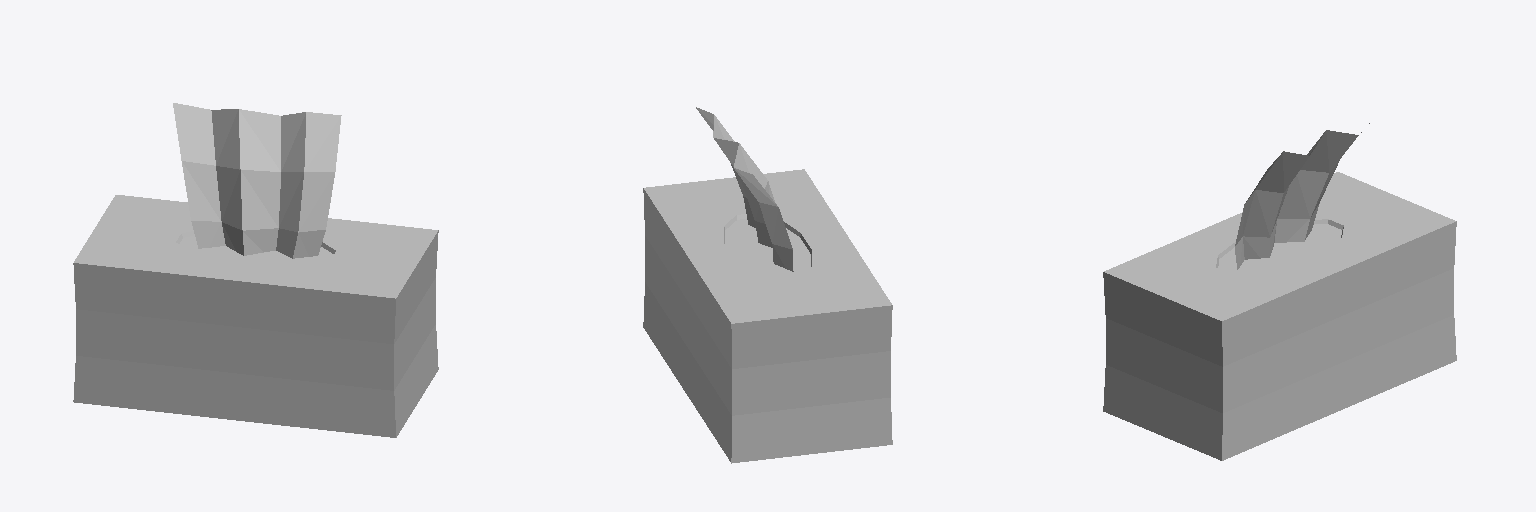
File: paper.obj
3 renders of one model, left to right at view 1: azimuth 30°, elevation 25°; view 2: azimuth 150°, elevation 25°; view 3: azimuth 270°, elevation 25°, orthographic.
Visible parts, largest first — view 1: paper; view 2: paper; view 3: paper.
Boxes of the visible parts, x1,y1,x2,y2 form: paper: [73, 103, 438, 437]; paper: [643, 107, 892, 463]; paper: [1103, 123, 1456, 460].
Size of the model in its own units: 5.27 by 4.26 by 5.25.